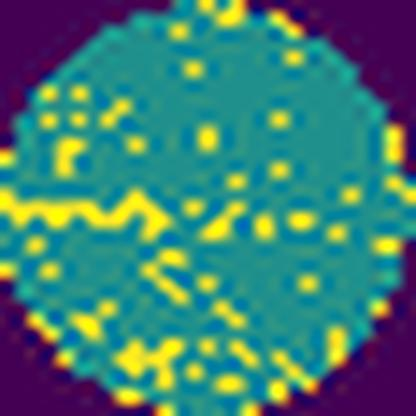Scratch: (0, 183, 178, 247)
